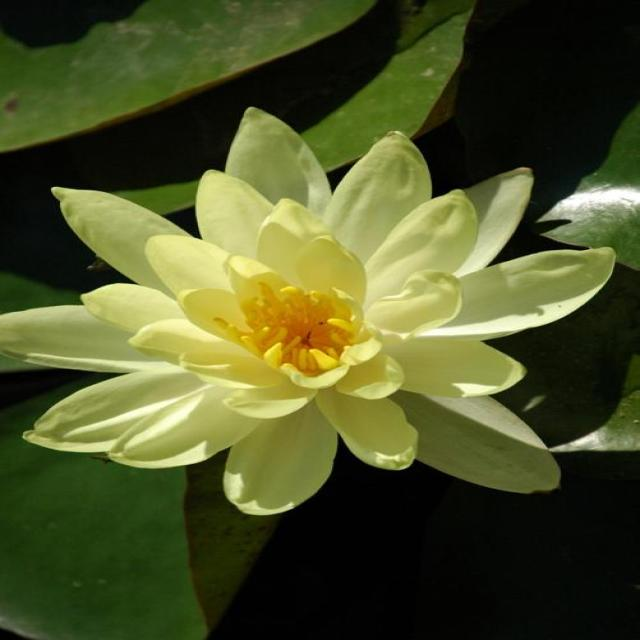rose: (19, 78, 640, 524)
